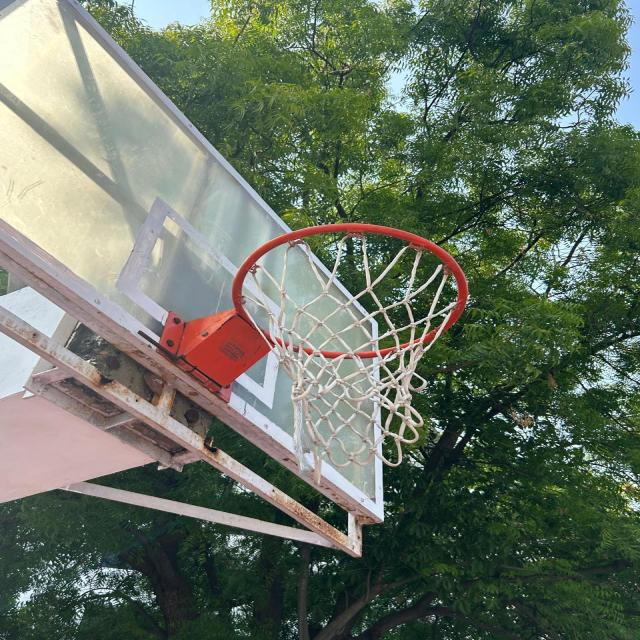hoop: (182, 212, 496, 482)
